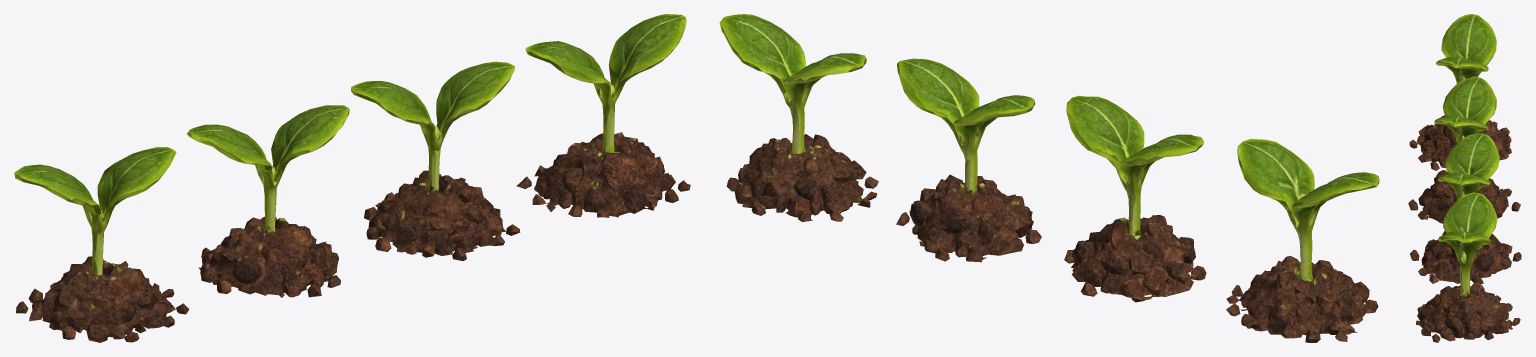
Rendered from crop_sprout_lite.glb.
3 views of the same model, side by side, from view 1: azimuth 30°, elevation 25°; view 2: azimuth 150°, elevation 25°; view 3: azimuth 270°, elevation 25° (orthographic). The views are drawn at different scales.
Parts seen in each view (by area): view 1: geometry_0; view 2: geometry_0; view 3: geometry_0.
Boxes of the visible parts, <box> form: geometry_0: <box>14,14,690,342</box>; geometry_0: <box>719,14,1379,342</box>; geometry_0: <box>1408,14,1521,342</box>.
Size of the model in its own units: 1.9 by 0.426 by 0.4011.
Materials: 1 (1 with a texture image).
